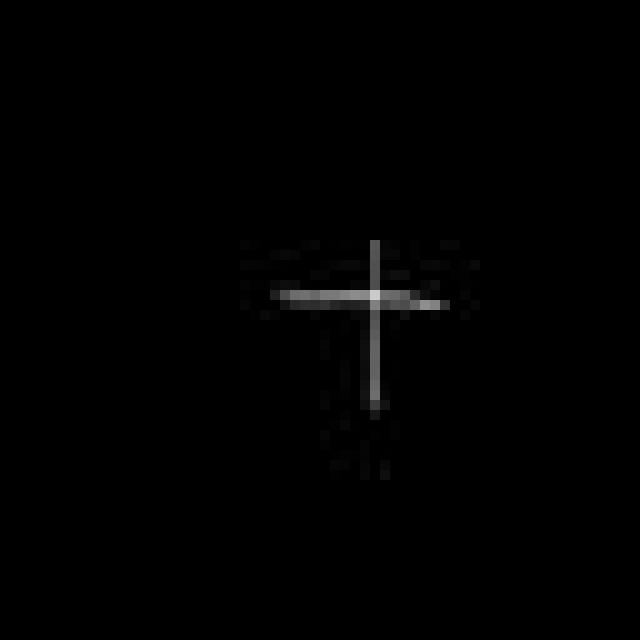10 -ten-: (265, 230, 455, 430)
